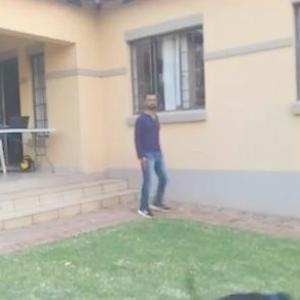follow: (132, 86, 172, 220)
